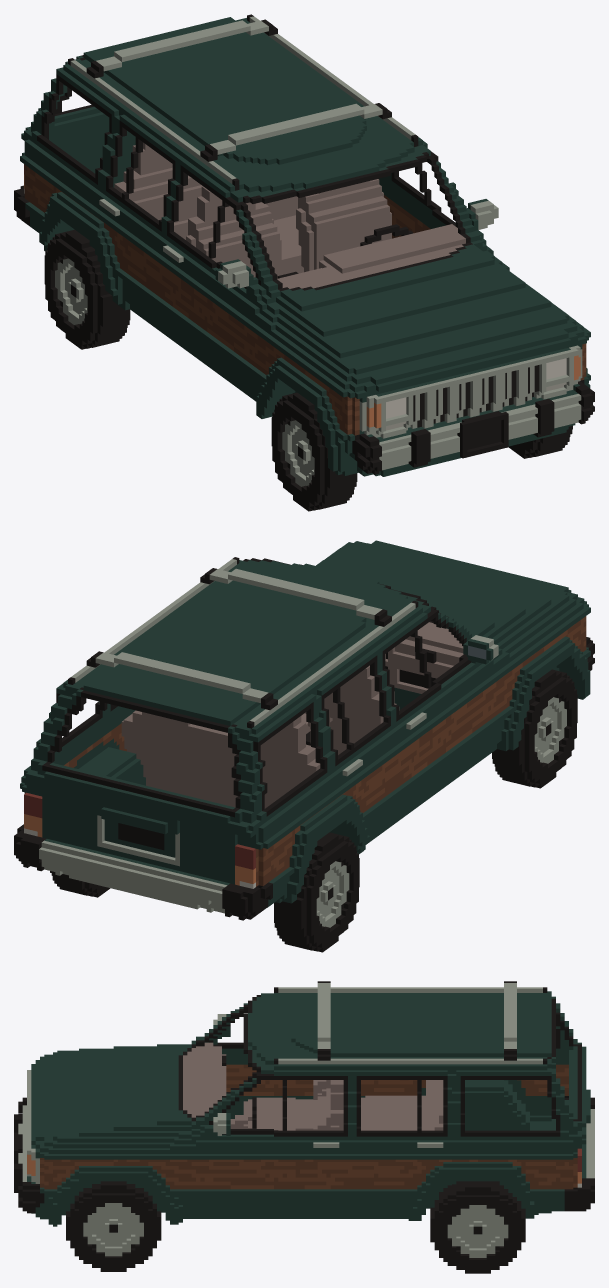
Rendered from jeep.glb.
The picture shows the model from 3 angles, top to bottom: view 1: azimuth 30°, elevation 25°; view 2: azimuth 150°, elevation 25°; view 3: azimuth 270°, elevation 25°; orthographic projection. The views are drawn at different scales.
Visible parts, largest first — view 1: jeep; view 2: jeep; view 3: jeep.
Part boxes in pixels (left/top/right/bottom): jeep: left=14, top=14, right=594, bottom=511; jeep: left=14, top=540, right=594, bottom=952; jeep: left=14, top=981, right=594, bottom=1273.
Bounding box in the file's own units: 6 × 5.4 × 13.4.
